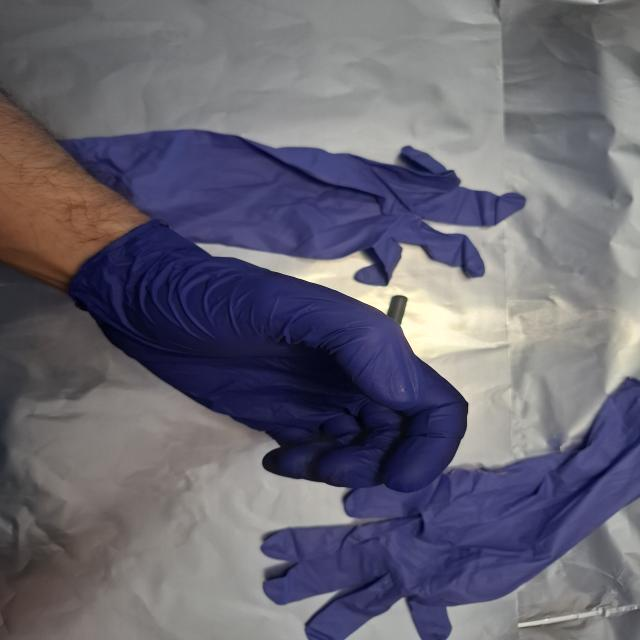glove_on: (68, 218, 473, 495)
